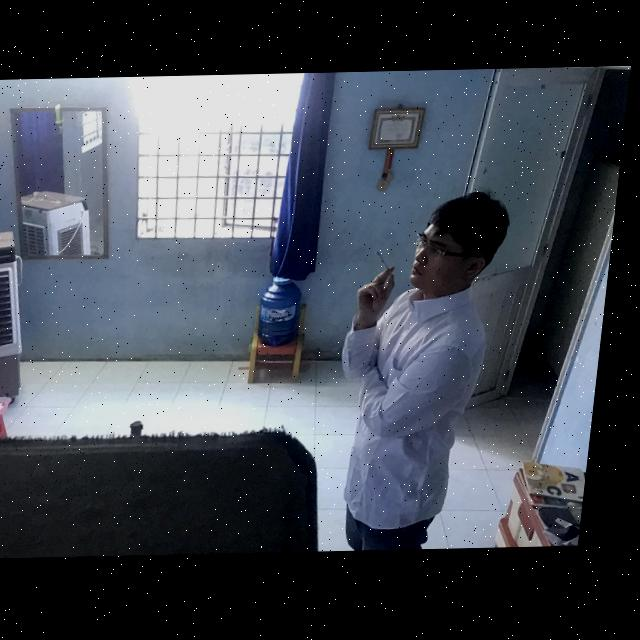cigarette: (379, 253, 403, 279)
